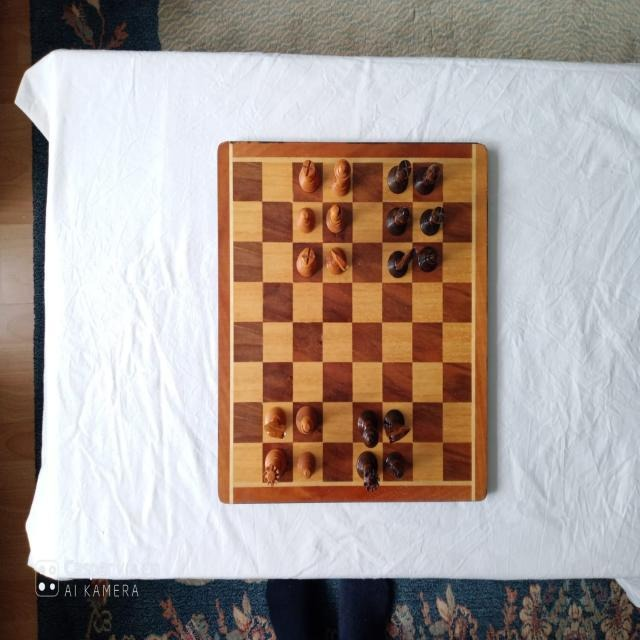black-bishop: (414, 160, 441, 196), (388, 206, 412, 237)
black-king: (358, 408, 382, 446)
black-knight: (382, 405, 411, 444), (386, 248, 417, 280)
black-pawn: (414, 242, 441, 273), (385, 450, 407, 480)
black-queen: (357, 449, 383, 492)
black-rook: (387, 159, 413, 197), (418, 206, 446, 236)
white-bishop: (293, 404, 322, 435), (326, 204, 350, 235)
white-king: (330, 160, 355, 196)
white-knight: (262, 406, 289, 438), (325, 246, 351, 276)
white-pawn: (297, 207, 318, 235), (298, 450, 318, 479)
white-queen: (260, 449, 288, 488)
white-rook: (295, 244, 321, 279), (297, 159, 323, 193)
